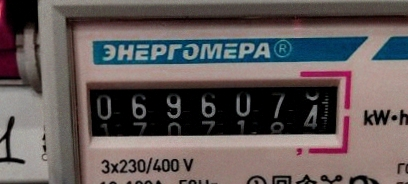0: (233, 87, 252, 117), (94, 91, 112, 119)
4: (302, 102, 318, 130)
6: (198, 89, 217, 119), (129, 90, 148, 118)
7: (269, 89, 286, 119)
9: (164, 91, 181, 119)
screen: (72, 62, 357, 154)
